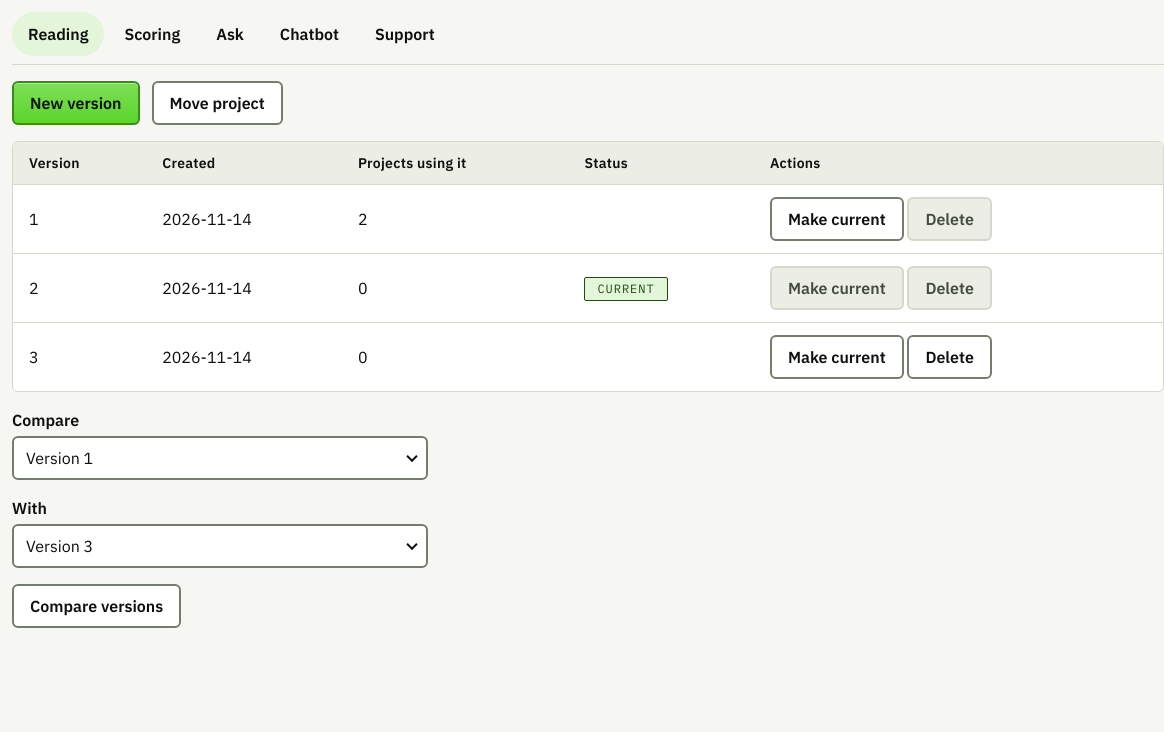
Test: prompt versions list › shows Ask Bera's prompt on its own tab, without moving projects to it
Expected: the element named "Reading versions" is shown, left=12, top=141, right=1163, bottom=392
Expected: the button "Move project" is shown, left=152, top=81, right=283, bottom=125
Click the tab "Ask".
click(230, 34)  # box left=200, top=12, right=260, bottom=56
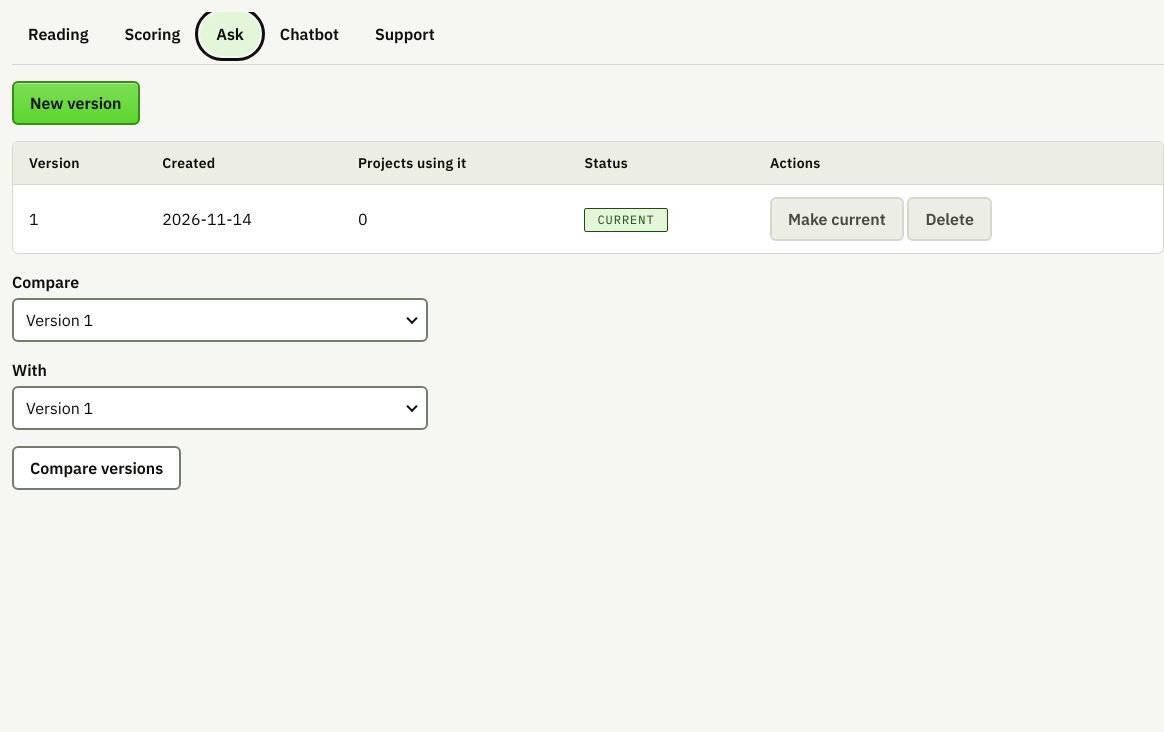
Result: the element named "Ask versions" is shown at left=12, top=141, right=1163, bottom=254
Result: the button "Move project" is gone
